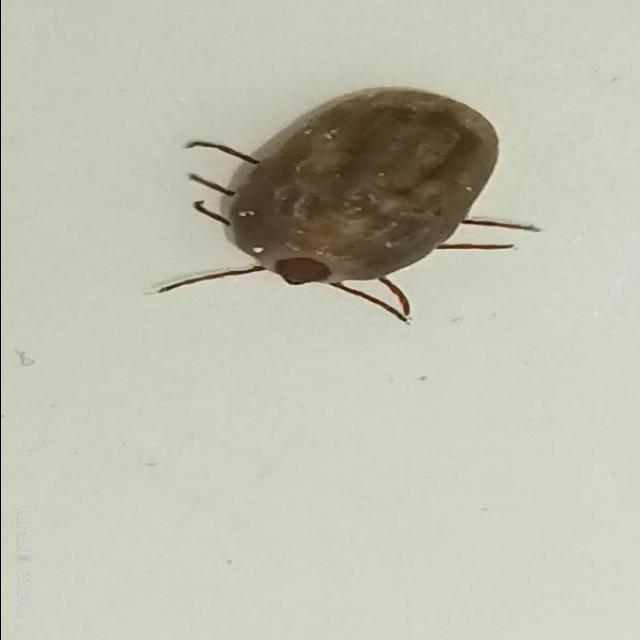Rhipicephalus Sanguineus-F-Fed: (140, 87, 540, 326)
